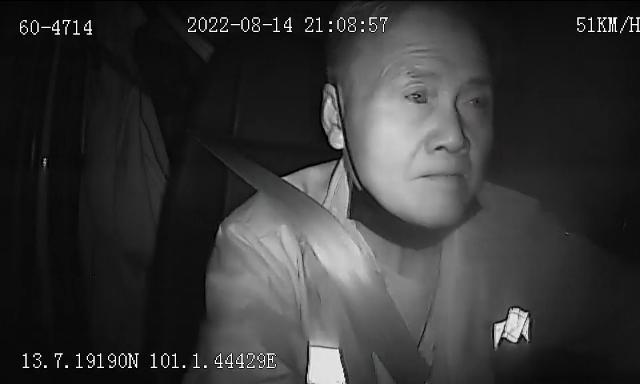SafeDriving: (455, 81, 494, 120), (398, 78, 438, 113)
Seatbelt: (215, 147, 427, 377)
